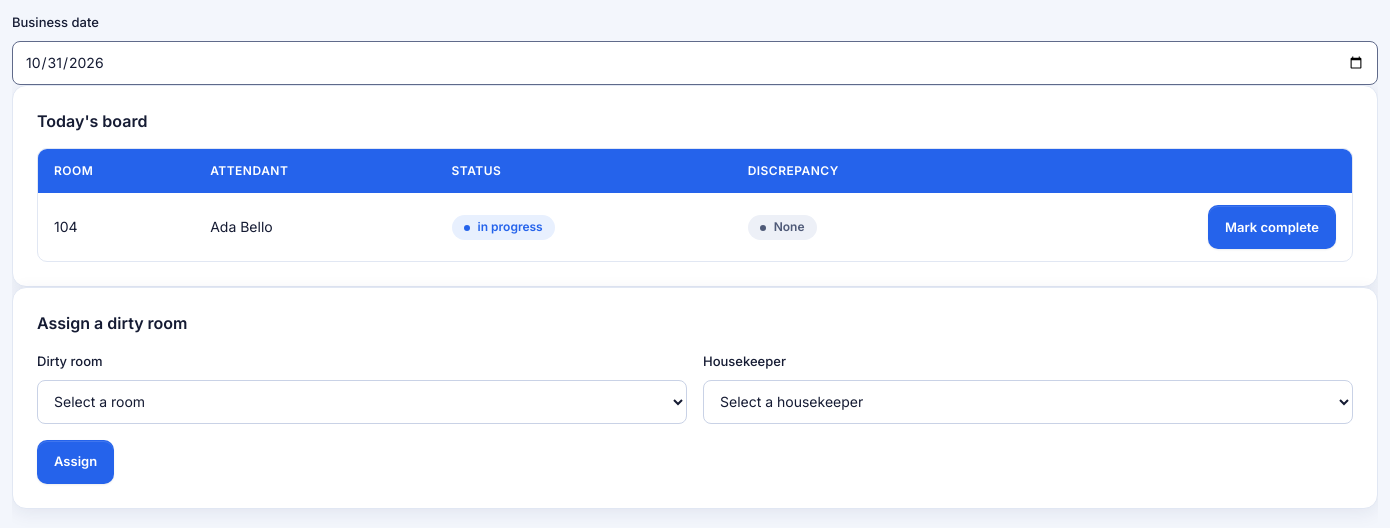
Test: <BoardTab> › completing an assignment now also reports the room status › asks a real vacant/occupied question instead of completing immediately
Click the button "Mark complete" at (1272, 227), box x1=1208 y1=205 x2=1336 y2=249
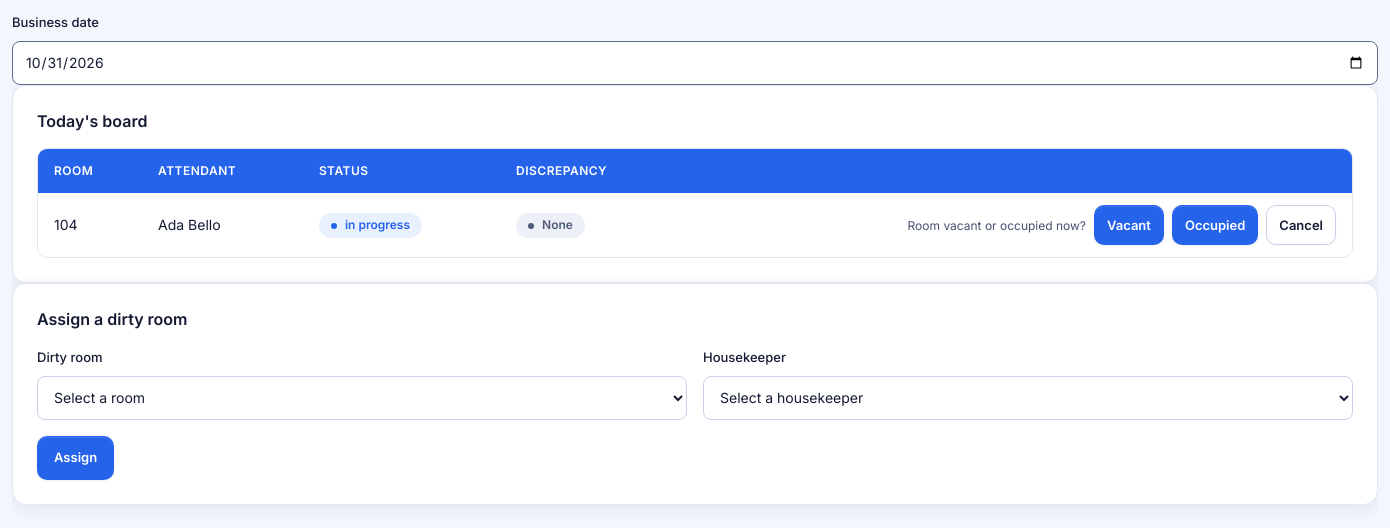
expect the text "Room vacant or occupied now?" is shown: met, box x1=908 y1=216 x2=1086 y2=235
